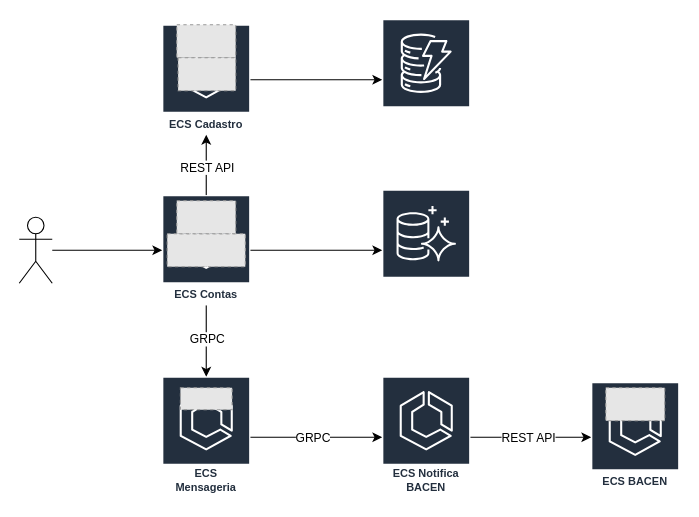
Image size: 699x517. Some labels were removed from this diagram. Grey dashed boxes stand in for pictures. Each missing label, with the centre of its shape:
"Actor" goes at pixel 35 249.
"Amazon Aurora" goes at pixel 425 250.
"Amazon DynamoDB" goes at pixel 425 79.
